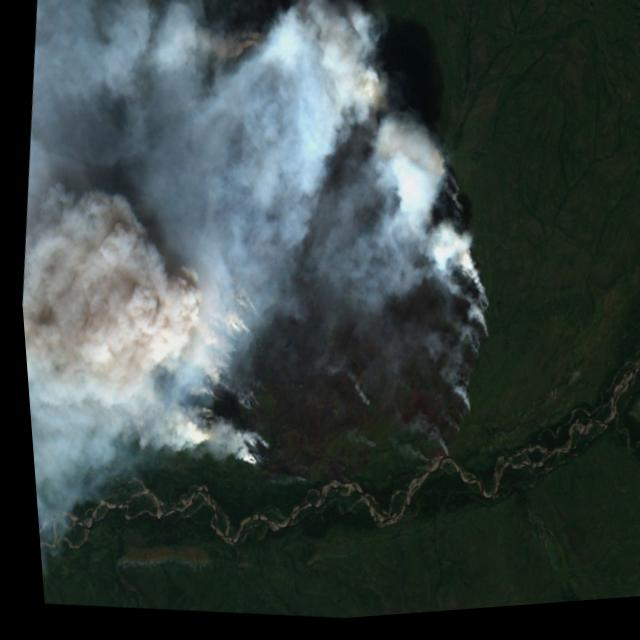fire: (69, 0, 535, 525)
